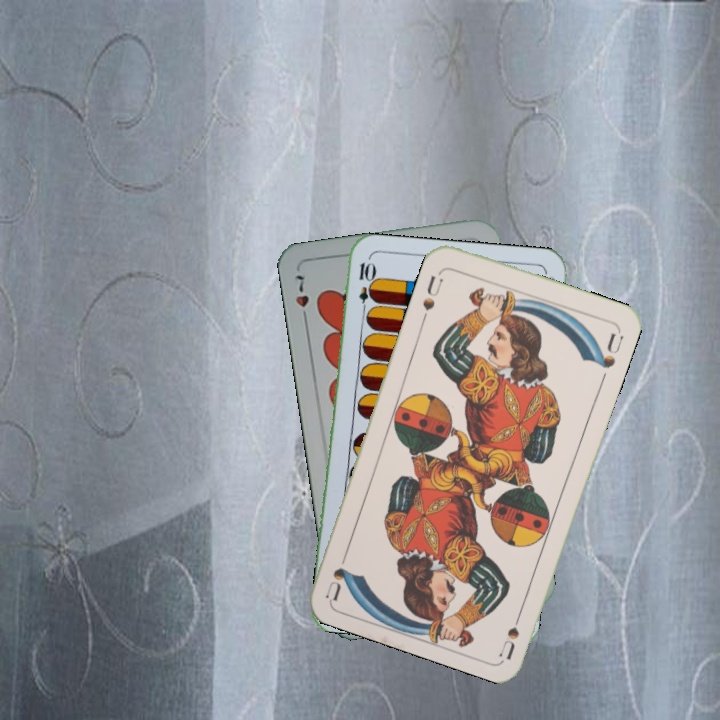E10: (354, 258, 374, 317)
H7: (291, 271, 312, 327)
SU: (496, 601, 527, 660), (418, 266, 446, 323)
